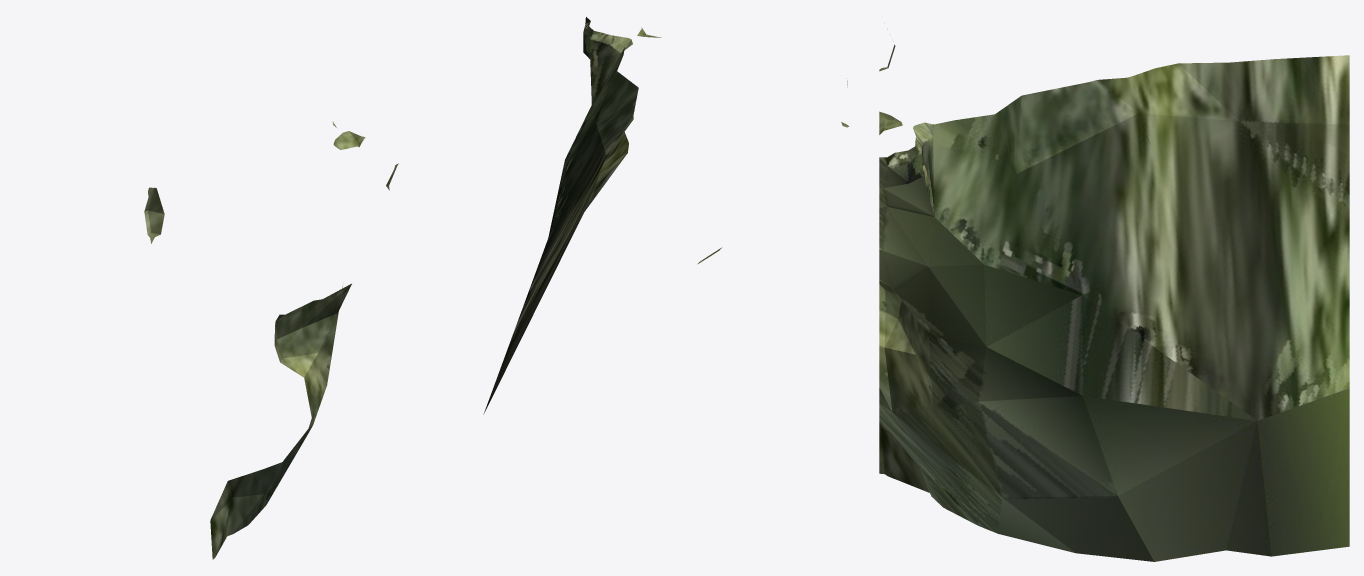
The picture shows the model from 3 angles, left to right: view 1: azimuth 30°, elevation 25°; view 2: azimuth 150°, elevation 25°; view 3: azimuth 270°, elevation 25°; orthographic projection. The views are drawn at different scales.
Size of the model in its own units: 2.13 by 2.95 by 2.95.
Materials: 3 (3 with a texture image).
